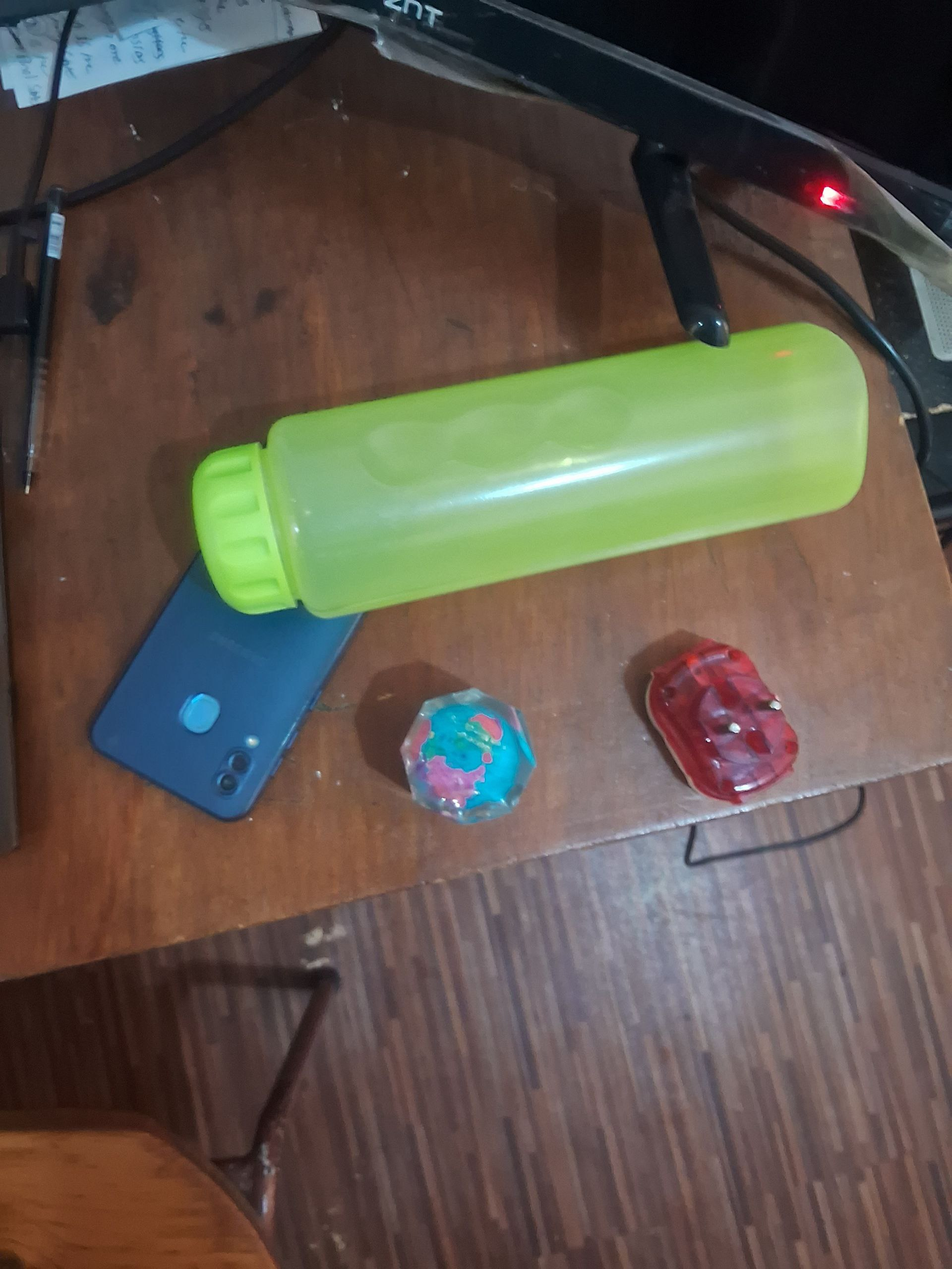Multi_adapter: (638, 630, 806, 811)
Smart_phone: (86, 543, 369, 822)
Water_bottle: (172, 308, 879, 620)
world_globe: (394, 683, 541, 830)
